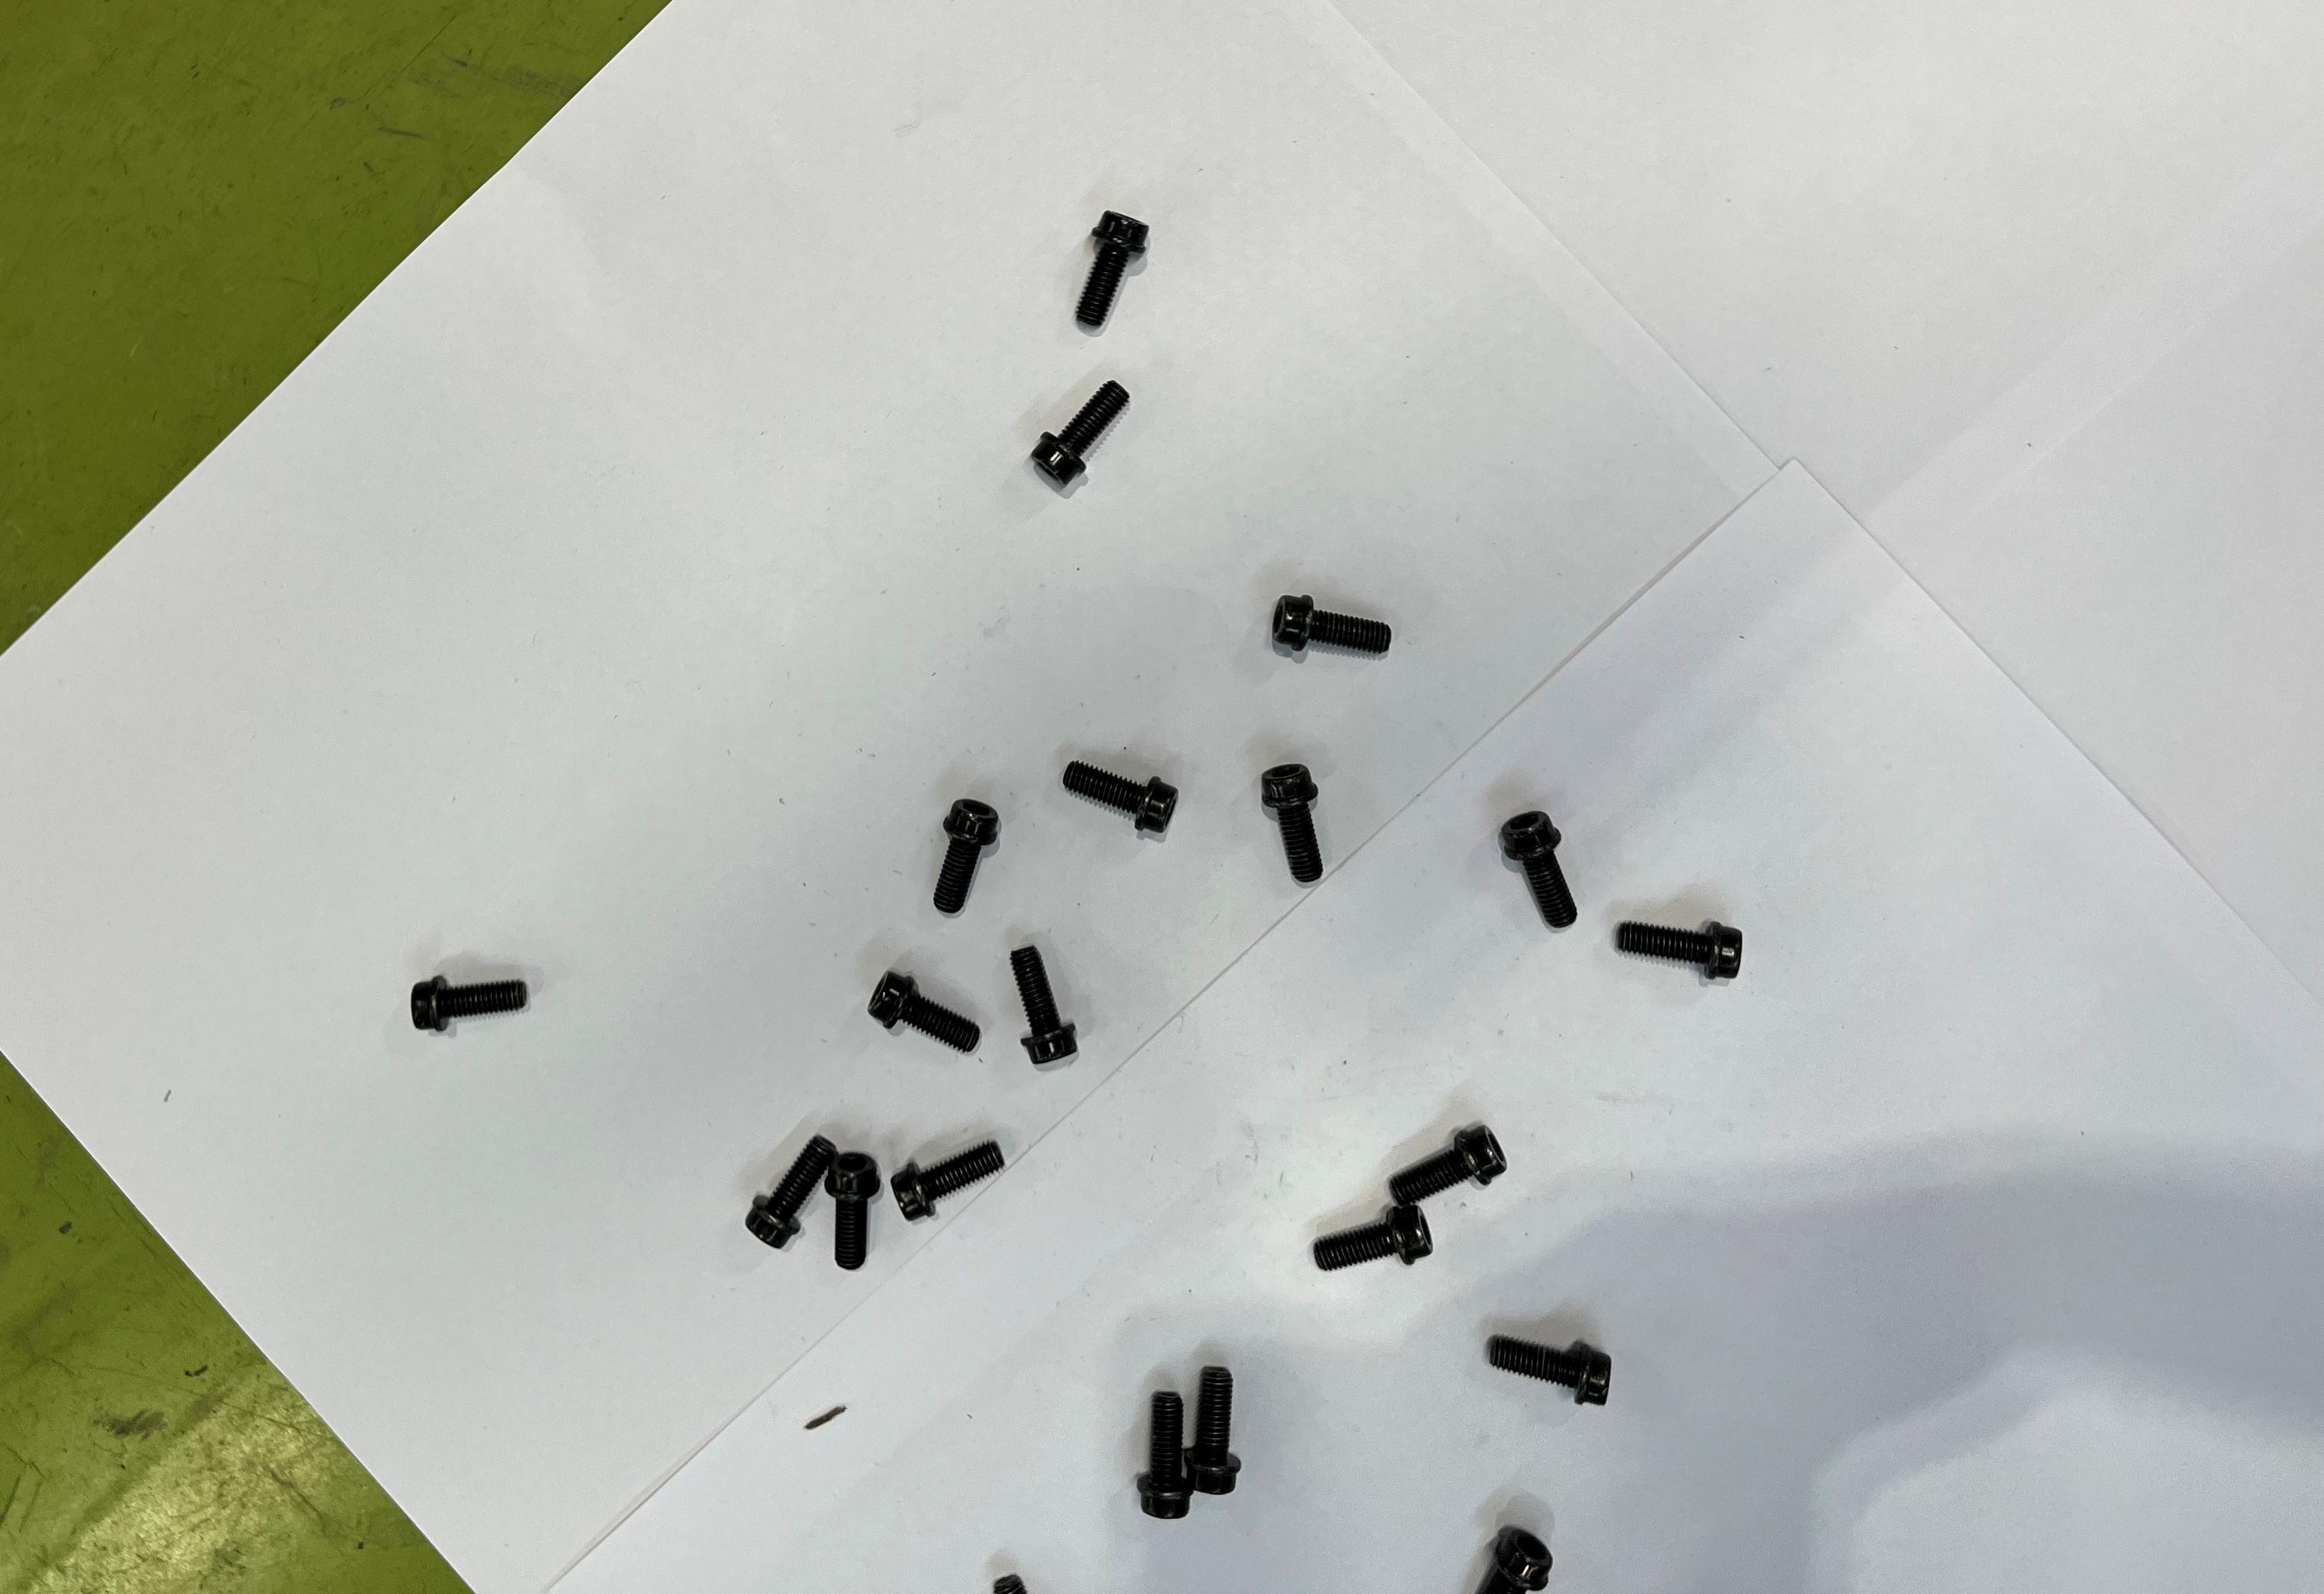Type C: (1030, 381, 1130, 491), (888, 1139, 1007, 1225), (747, 1132, 834, 1250), (865, 969, 980, 1056), (1498, 808, 1579, 930), (1388, 1124, 1508, 1206), (1310, 1200, 1434, 1276), (1485, 1335, 1611, 1407), (1257, 764, 1335, 881), (1065, 756, 1178, 835), (1075, 210, 1150, 328), (1010, 946, 1079, 1071), (1614, 920, 1745, 983), (1134, 1389, 1194, 1518), (934, 796, 1000, 914), (1185, 1363, 1241, 1495), (397, 978, 533, 1033), (1273, 597, 1392, 658), (826, 1151, 881, 1271), (1476, 1523, 1552, 1594), (992, 1575, 1037, 1594)
